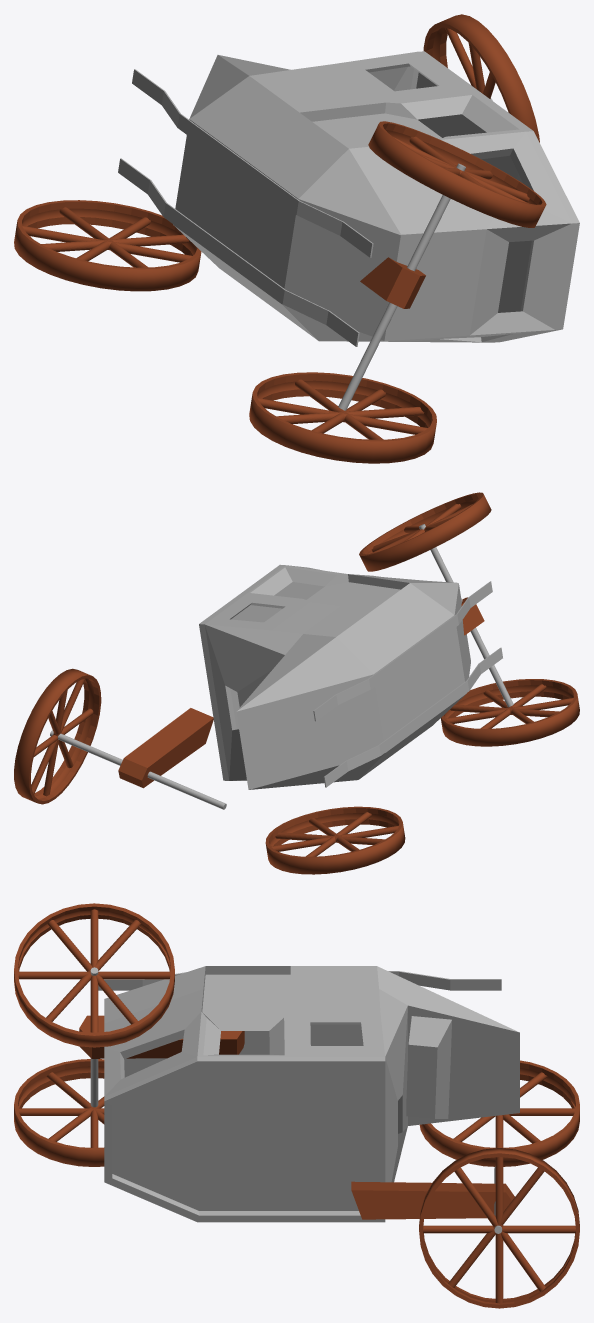
File: Kareta slomana.fbx
3 renders of one model, top to bottom at view 1: azimuth 30°, elevation 25°; view 2: azimuth 150°, elevation 25°; view 3: azimuth 270°, elevation 25°, orthographic. The views are drawn at different scales.
Visible parts, largest first — view 1: Cube, Cylinder.003, Cylinder.004, Cube.005, Cylinder.002, Cylinder.005, Cube.002, Cylinder; view 2: Cube, Cylinder.004, Cylinder.005, Cylinder.003, Cube.005, Cylinder.002, Cube.001, Cylinder.001, Cylinder; view 3: Cube, Cylinder.002, Cylinder.005, Cylinder.003, Cylinder.004, Cube.001, Cube.003, Cube.005, Cube.002.
Part boxes in pixels (x1,y1,x2,y2): Cube: [173, 51, 579, 342]; Cylinder.003: [249, 372, 436, 463]; Cylinder.004: [14, 200, 201, 291]; Cube.005: [118, 69, 373, 346]; Cylinder.002: [368, 121, 546, 227]; Cylinder.005: [423, 14, 539, 142]; Cube.002: [360, 257, 425, 308]; Cylinder: [338, 163, 465, 410]; Cube: [199, 564, 470, 789]; Cylinder.004: [265, 806, 405, 874]; Cylinder.005: [14, 668, 101, 804]; Cylinder.003: [440, 679, 579, 746]; Cube.005: [313, 581, 502, 787]; Cylinder.002: [359, 492, 491, 571]; Cube.001: [118, 708, 213, 788]; Cylinder.001: [50, 730, 226, 809]; Cylinder: [419, 524, 513, 707]; Cube: [104, 966, 519, 1222]; Cylinder.002: [14, 903, 174, 1047]; Cylinder.005: [419, 1148, 579, 1308]; Cylinder.003: [14, 1059, 104, 1166]; Cylinder.004: [419, 1060, 579, 1166]; Cube.001: [351, 1181, 514, 1219]; Cube.003: [406, 1016, 451, 1118]; Cube.005: [98, 971, 501, 990]; Cube.002: [79, 1015, 244, 1058].
Size of the model in its own units: 1201 by 728 by 1425.
